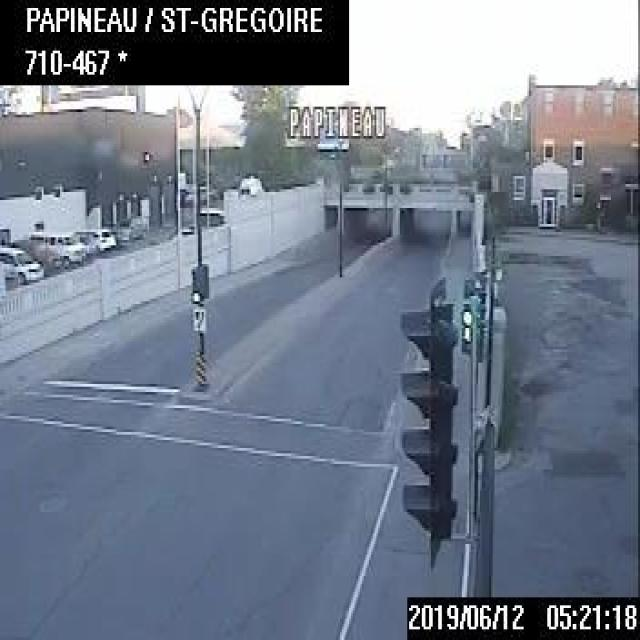vehicle: (23, 227, 86, 268), (0, 242, 44, 282), (74, 223, 117, 253), (115, 211, 152, 240)
